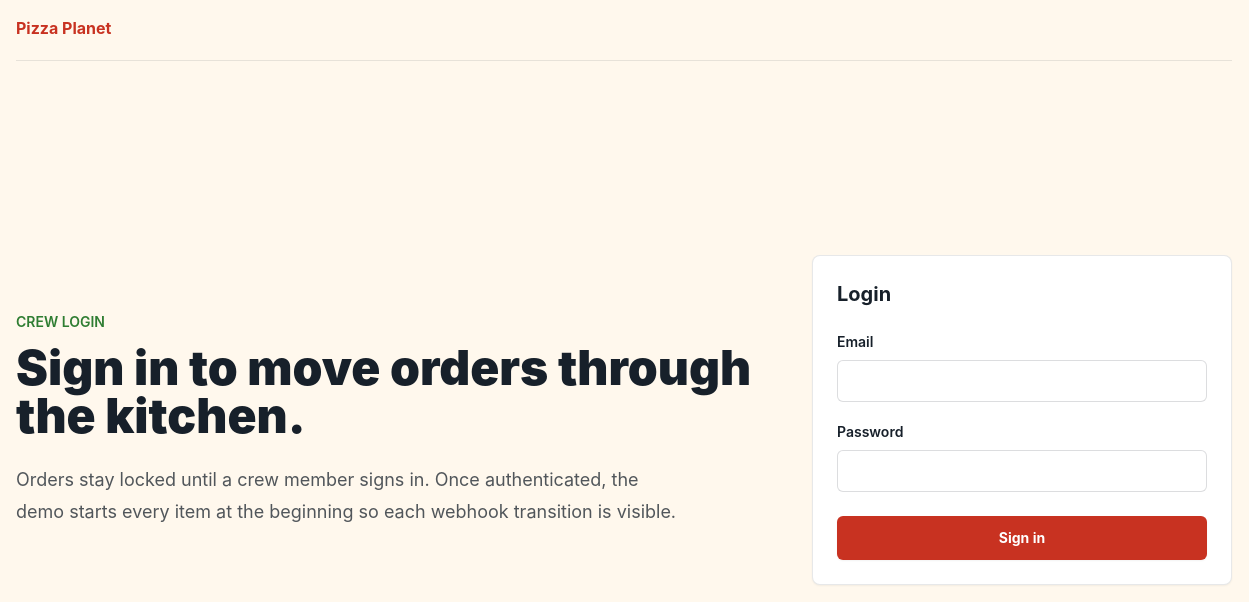
Test: HomePage › clears local auth state when server logout fails
Type "mario@pizzaplanet.test" into the field named "email".
click(1022, 380); type("mario@pizzaplanet.test")  # box [837,360,1207,402]
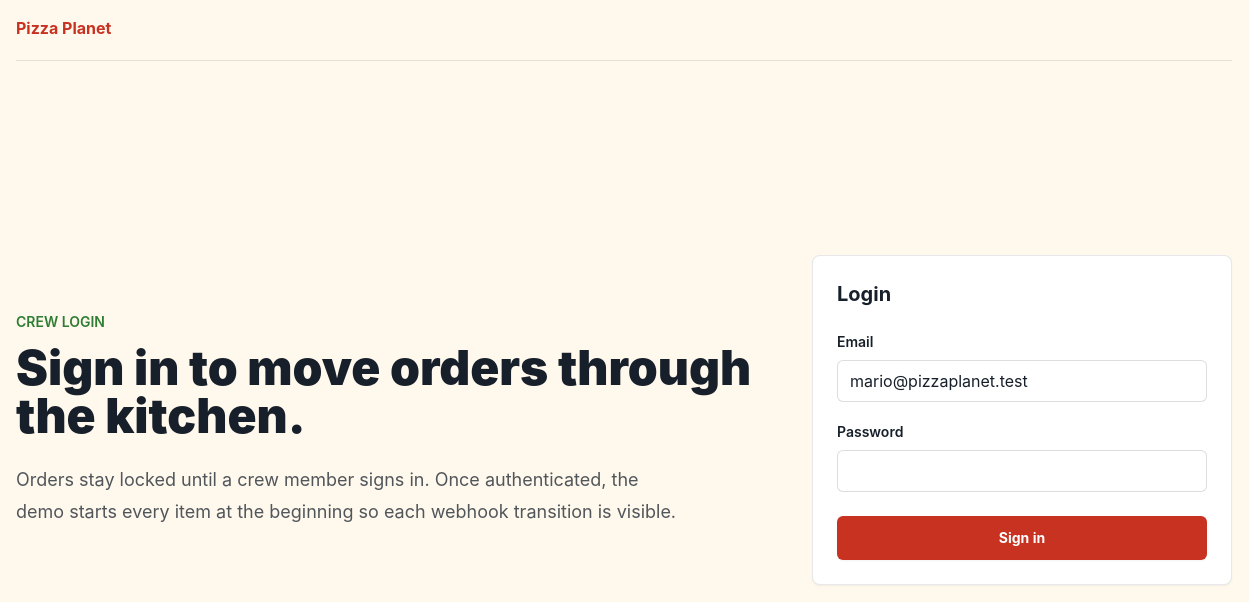
Type "ilovepizza" into the password field named "password".
click(1022, 470); type("ilovepizza")  # box [837,450,1207,492]
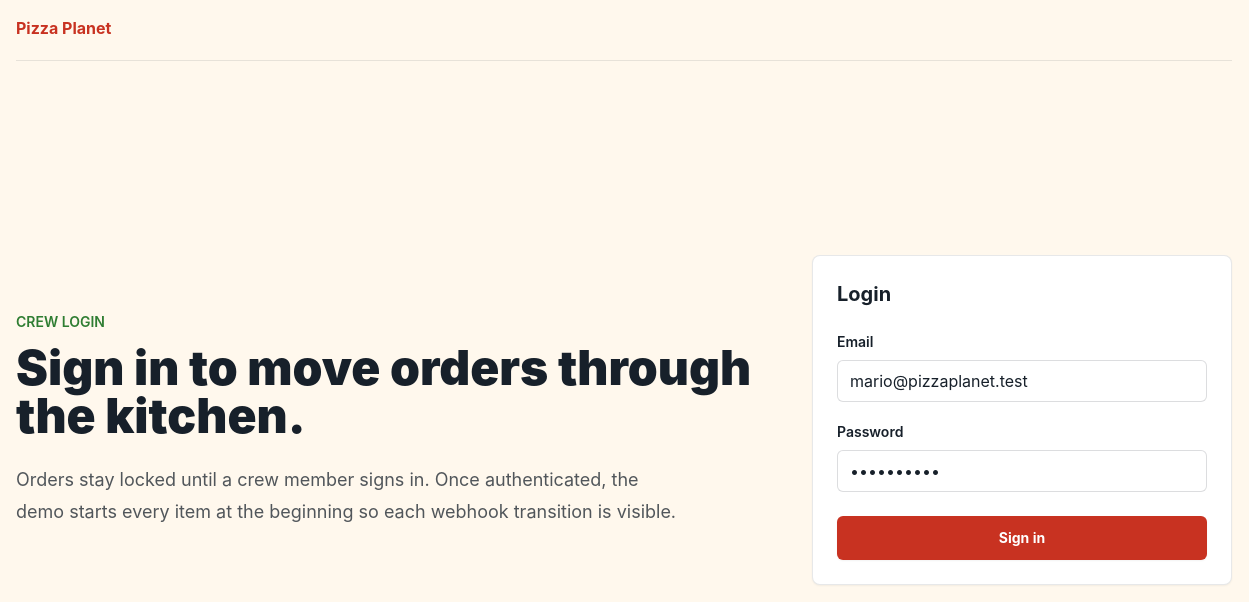
Submit the form, box [812,254,1232,584]
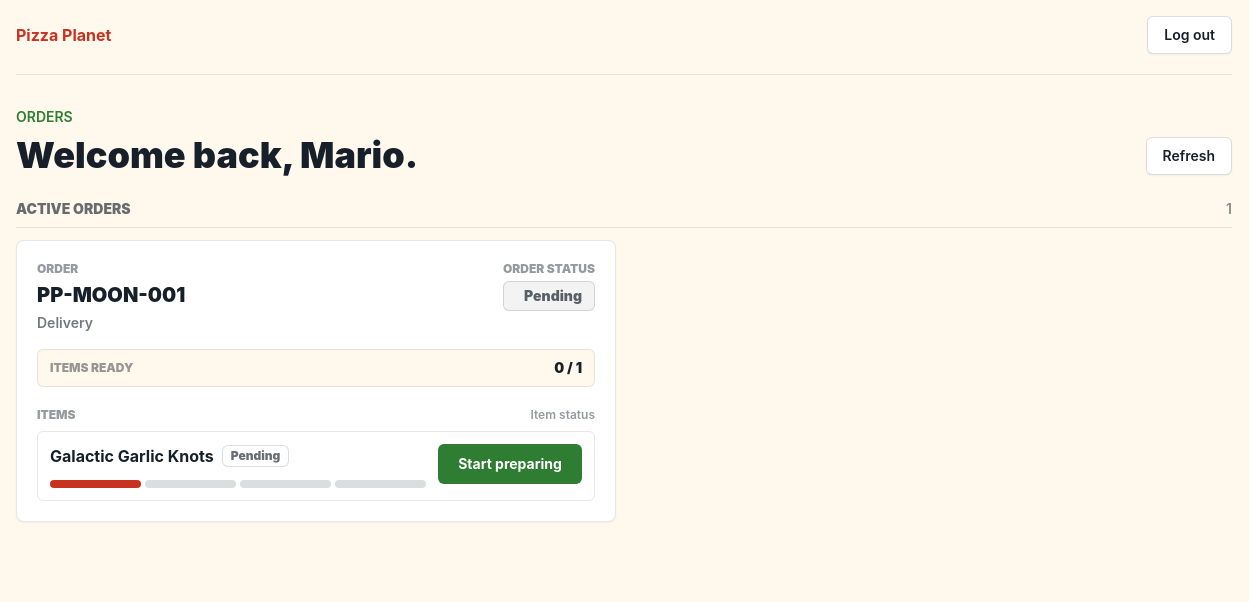
Click the button "Log out".
click(1190, 35)  # box [1147,16,1232,54]
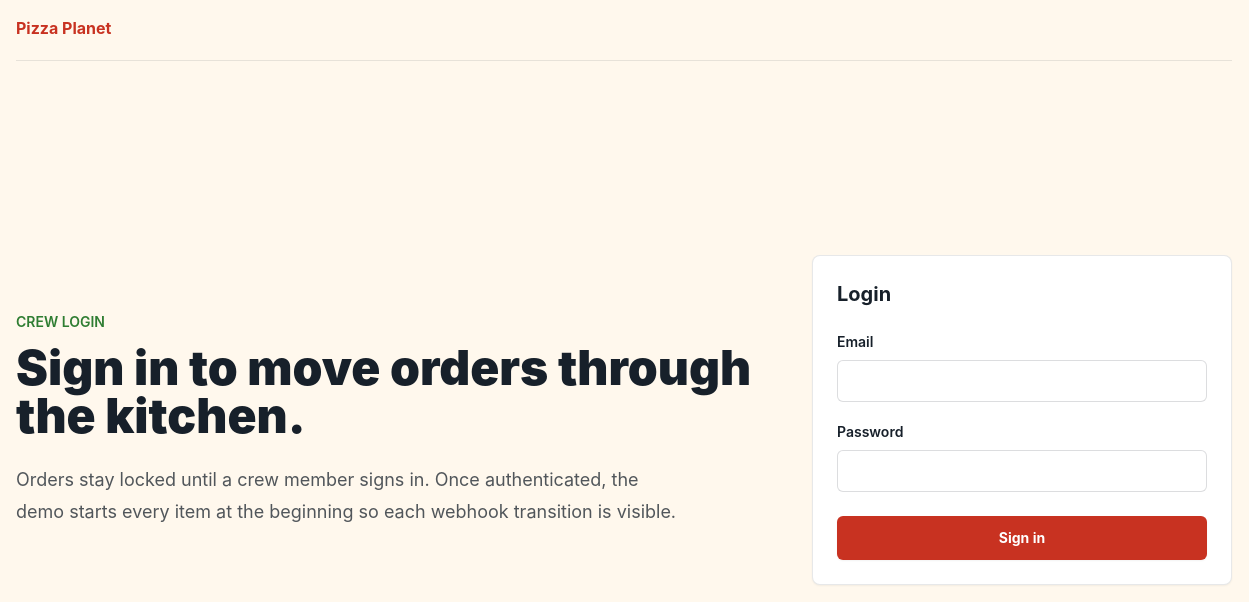
Expected: the field named "email" is empty, [837,360,1207,402]
Now the text "Sign in to move orders through the kitchen." is shown, box [16,344,772,440]
